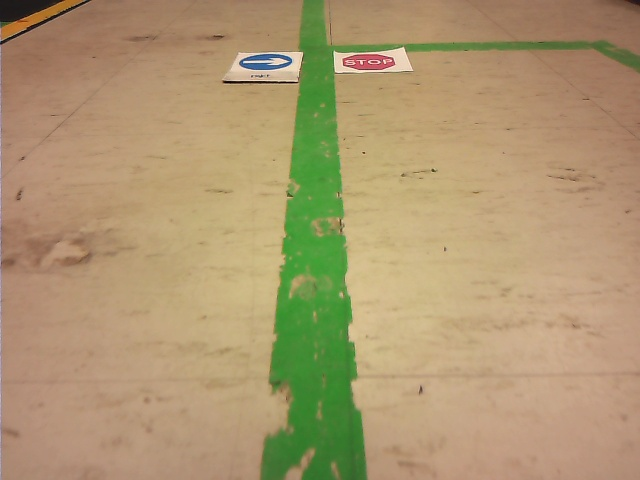STOP: (343, 54, 395, 70)
TURN RIGHT: (240, 53, 293, 70)
